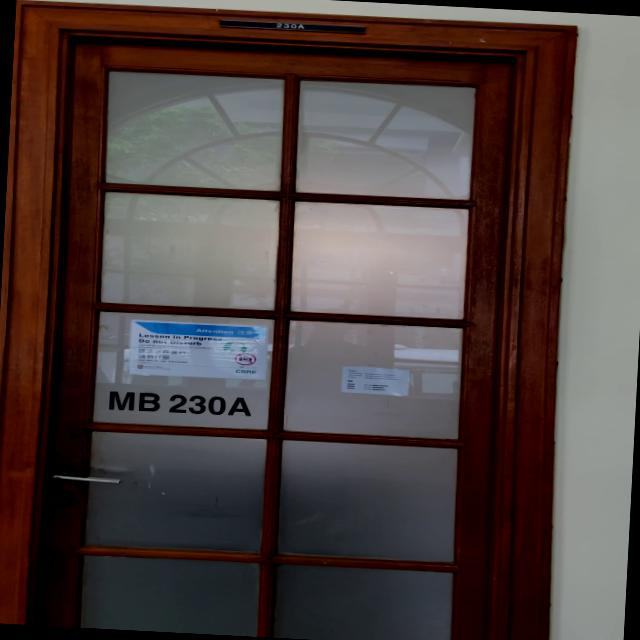room230A: (213, 14, 371, 36)
room230AWindow: (101, 386, 259, 422)
